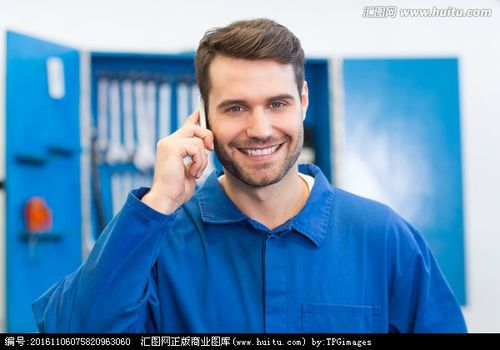calling: (150, 94, 216, 203)
